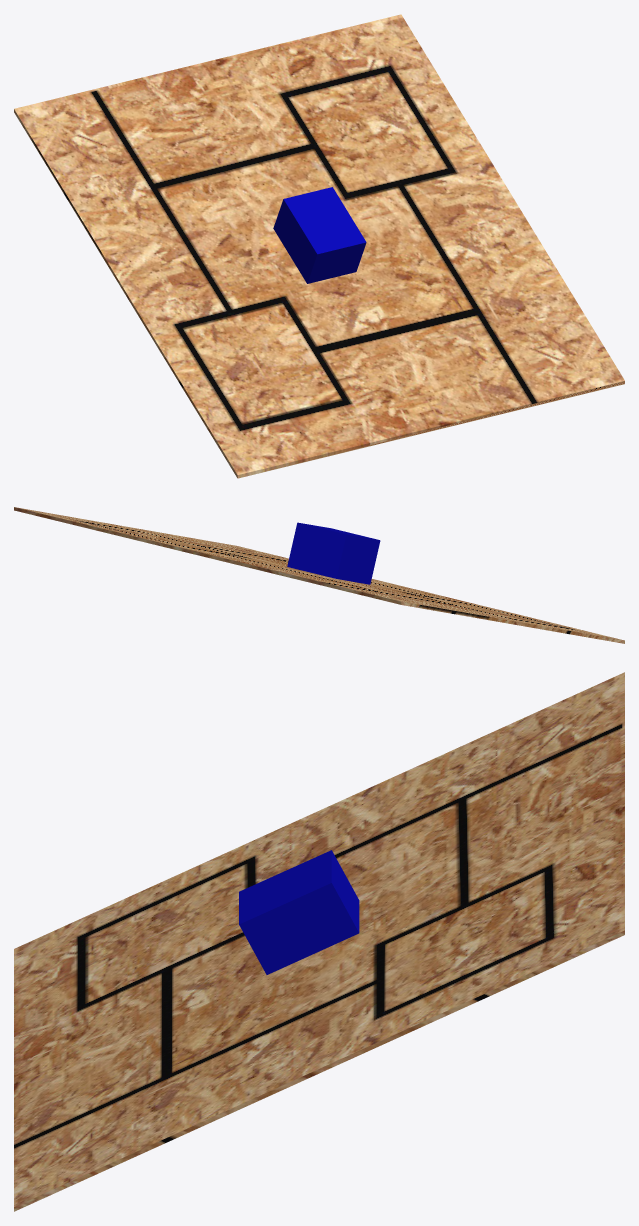
File: elev_ramp_labyrinth.dae
3 views of the same model, one above another, from view 1: azimuth 30°, elevation 25°; view 2: azimuth 150°, elevation 25°; view 3: azimuth 270°, elevation 25° (orthographic). The views are drawn at different scales.
Visible parts, largest first — view 1: Cube_001, Cube; view 2: Cube_001, Cube; view 3: Cube_001, Cube.
Part boxes in pixels (x1,y1,x2,y2): Cube_001: [14, 14, 624, 478]; Cube: [273, 187, 366, 283]; Cube_001: [14, 507, 624, 643]; Cube: [287, 522, 380, 584]; Cube_001: [14, 672, 624, 1211]; Cube: [239, 850, 359, 974].
Size of the model in its own units: 2.36 by 2.36 by 1.2.
